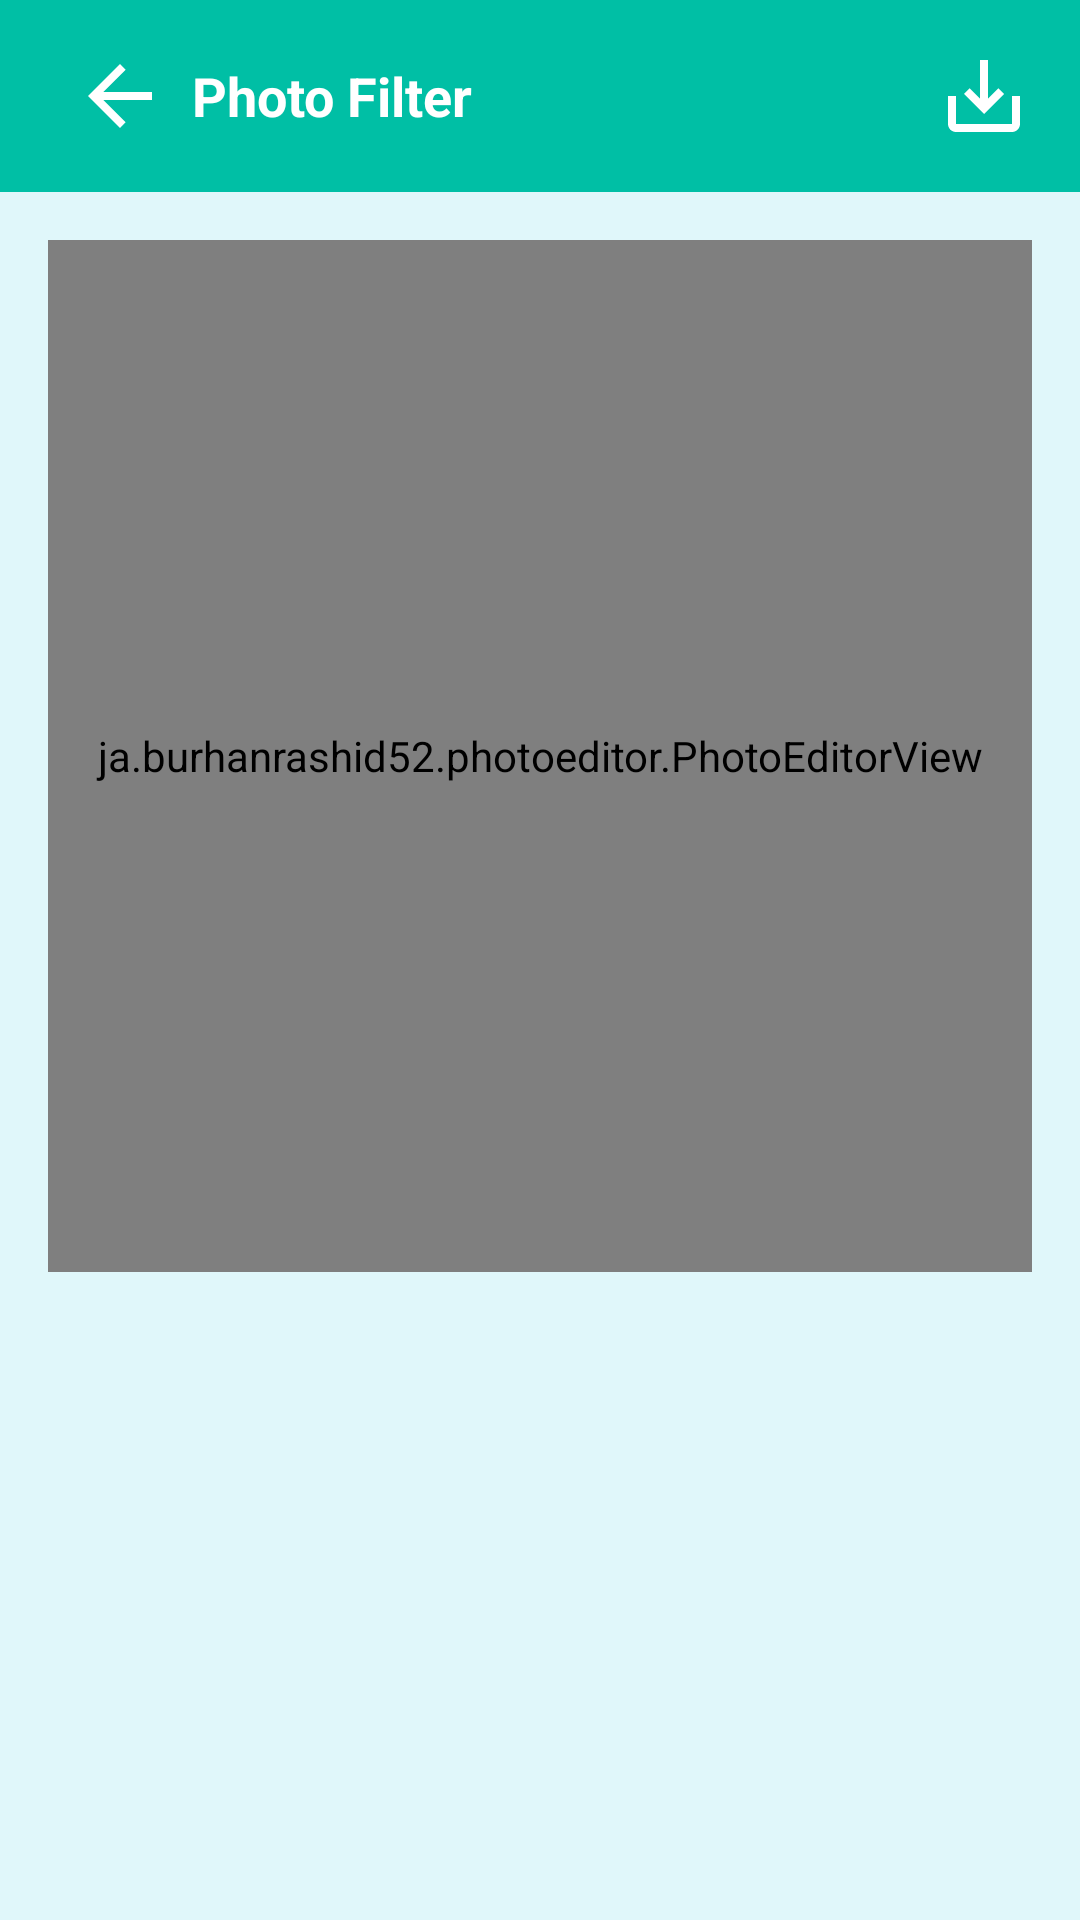

Icons on this 1080px×1920px Android screen, each with its box as [x1, y1, x2, y2]:
Back: [88, 64, 152, 128]
Save: [948, 60, 1020, 132]
